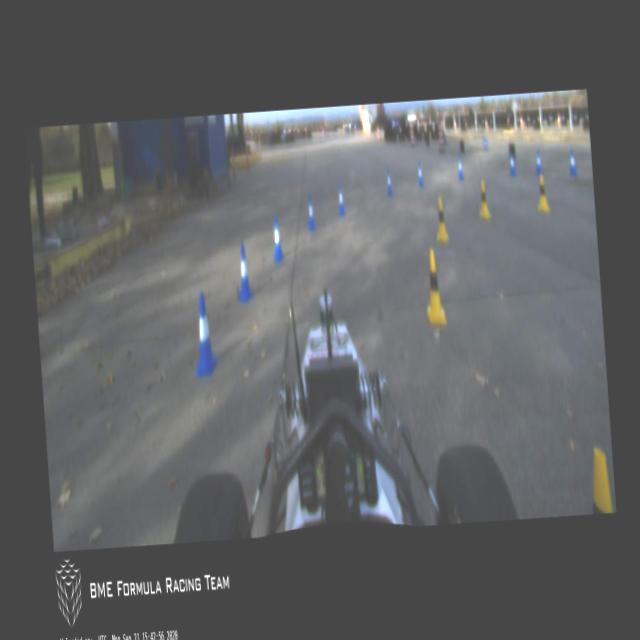blue_cone: (188, 290, 218, 378), (234, 239, 255, 302), (269, 215, 284, 262), (304, 196, 316, 230), (335, 184, 345, 215), (567, 148, 577, 176), (384, 168, 393, 196), (455, 154, 464, 180), (507, 150, 516, 176), (415, 161, 424, 186), (534, 150, 543, 174)
yellow_cone: (422, 248, 446, 328), (432, 198, 450, 242), (476, 178, 490, 219), (534, 173, 549, 211)
